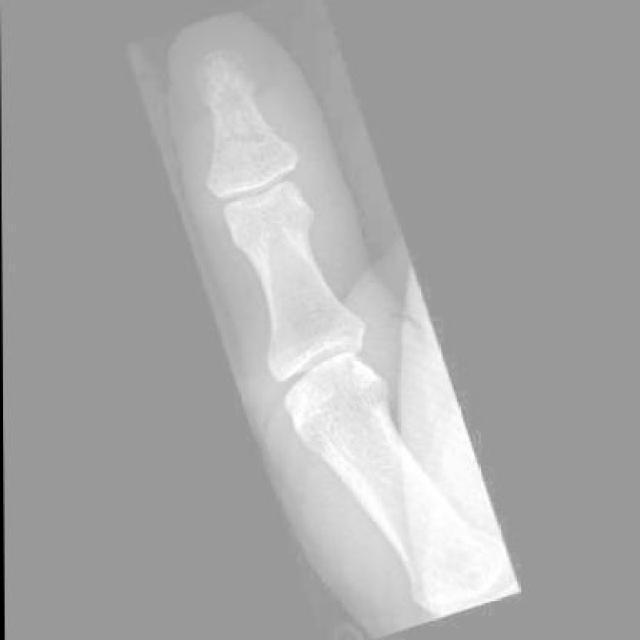Fracture: (171, 36, 294, 185)
